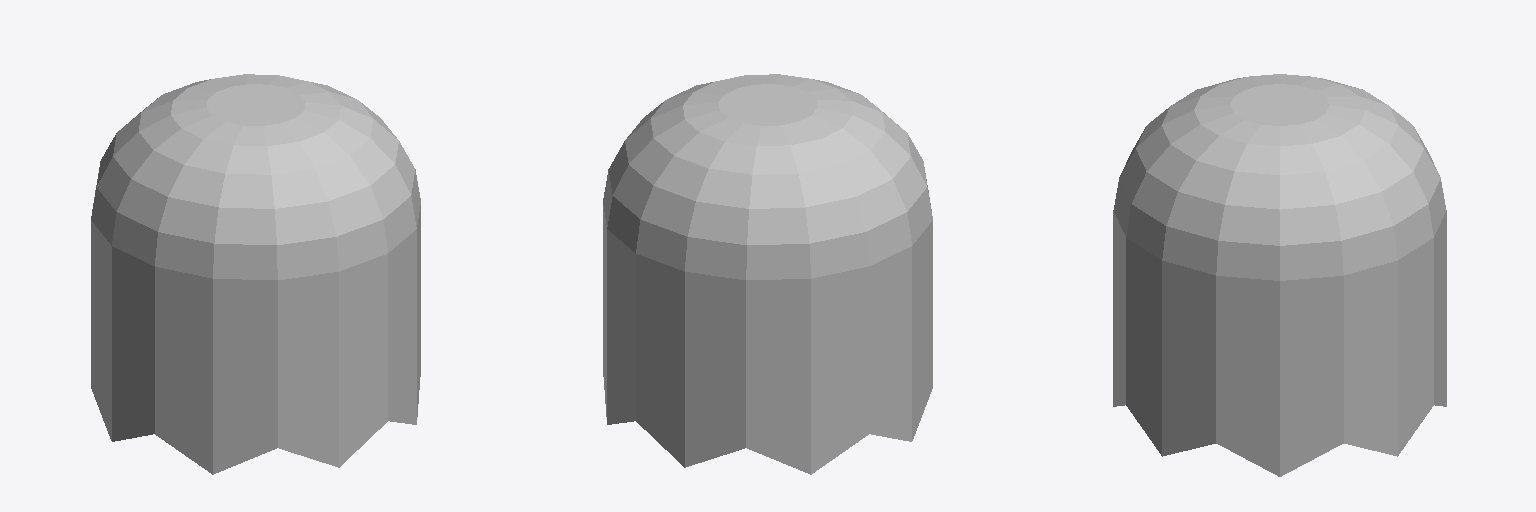
Rendered from ghost2.obj.
The picture shows the model from 3 angles: view 1: azimuth 30°, elevation 25°; view 2: azimuth 150°, elevation 25°; view 3: azimuth 270°, elevation 25°; orthographic projection.
Visible parts, largest first — view 1: pCylinder1; view 2: pCylinder1; view 3: pCylinder1.
Boxes of the visible parts, <box> form: pCylinder1: <box>91,74,420,474</box>; pCylinder1: <box>603,74,932,474</box>; pCylinder1: <box>1113,74,1446,476</box>.
Size of the model in its own units: 2 by 2 by 2.